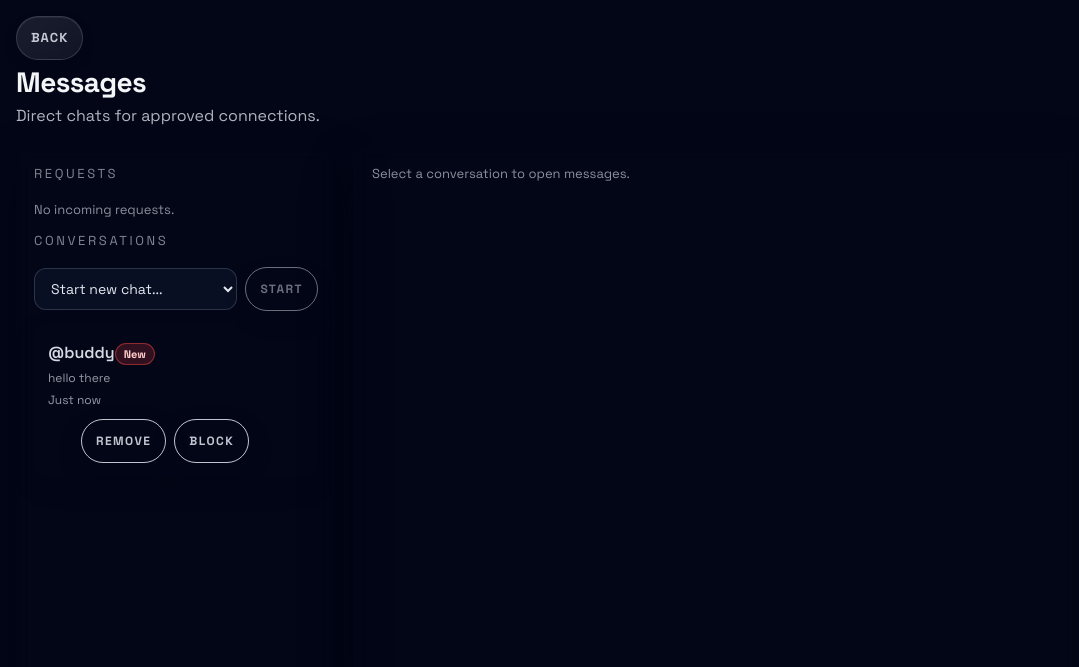
loads conversation list and opens selected conversation
Expected: the text "Select a conversation to open messages." is shown, [372,165,630,182]
Click the button "@buddy".
click(81, 353)  # box [48,341,115,365]
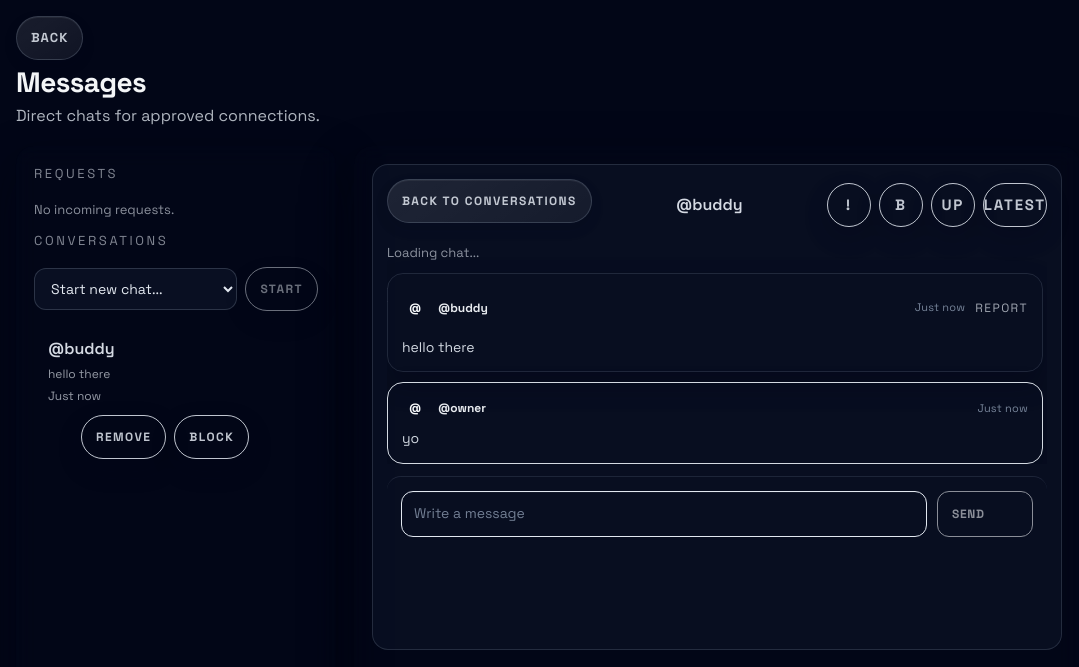
Expected: the field with placeholder "Write a message" is shown, [401,491,927,537]
